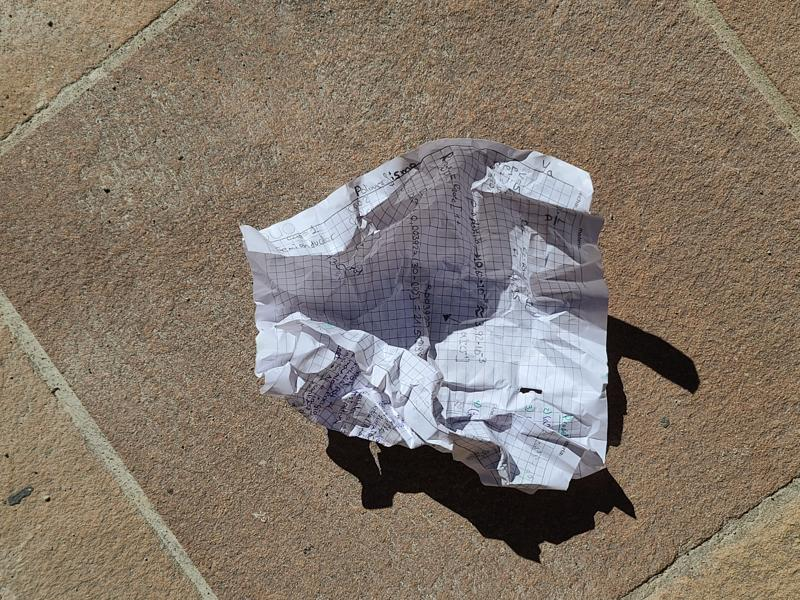papel: (240, 139, 609, 493)
